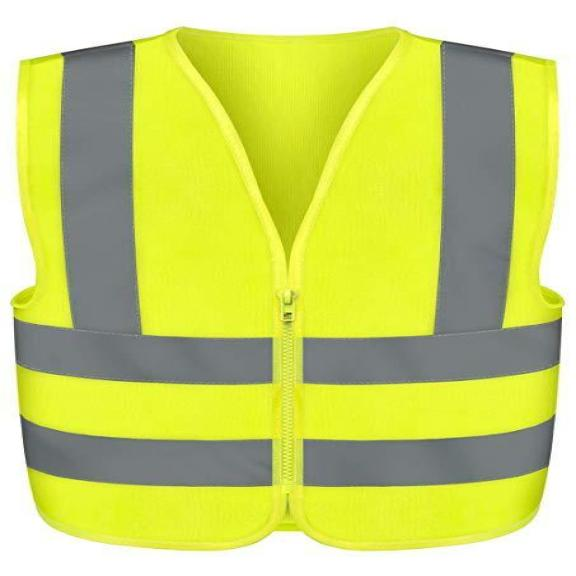safety_vest: (12, 29, 558, 544)
